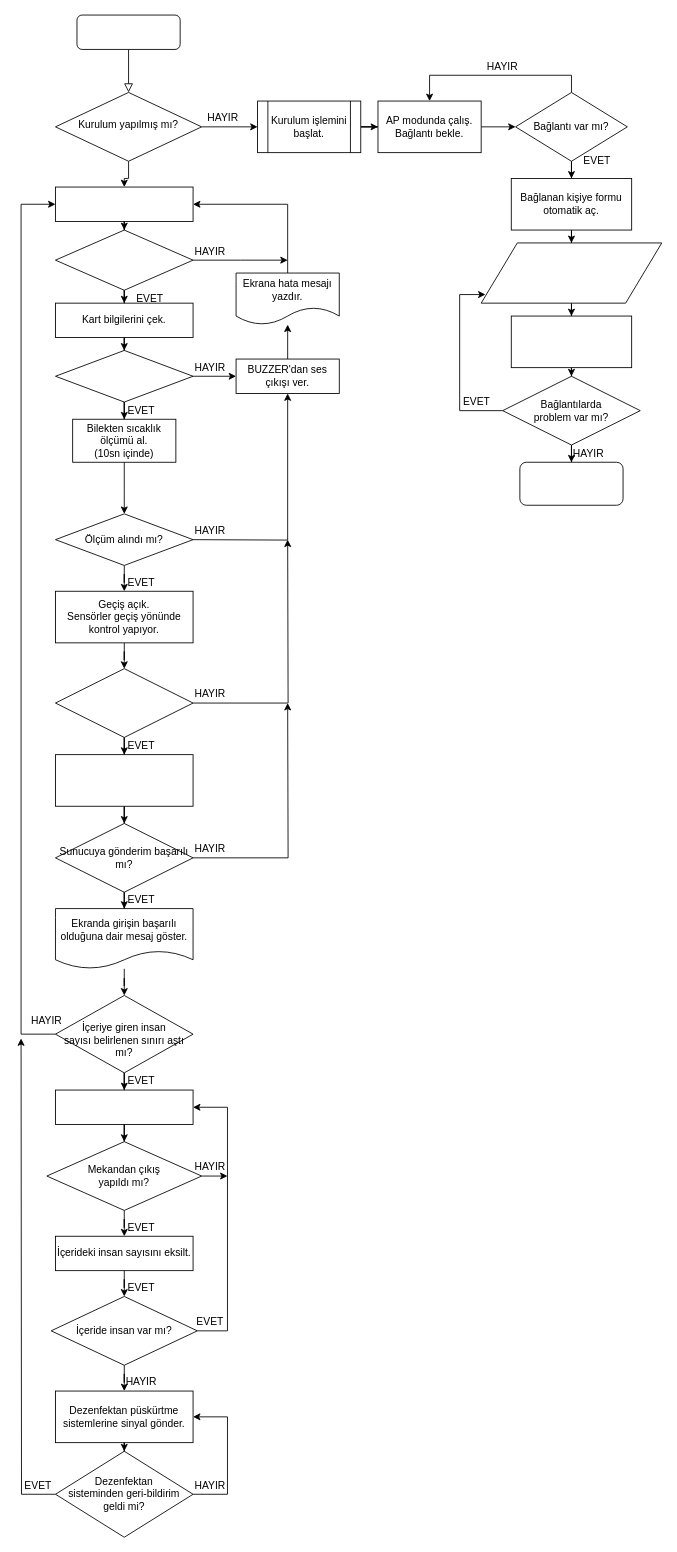
This 677x1552 diagram has some shape labels left out. Each missing label, with the centre of its shape:
Alınan verileri sunucuya gönder.: point 124,780
Bağlantıları test et.: point 571,341
Başla: point 128,31
Cihazı yeniden başlat.: point 571,483
Giriş yapıldı mı?: point 124,702
Kablosuz ağ bilgileri ve bağlanılacak sunucu bilgilerini al.: point 571,272
Kart sistemde tanımlı mı?: point 124,376
RFID kart okumayı bekle.: point 124,203
RFID Kart Okundu mu?: point 124,259
Çıkış kontrolünü aç.: point 124,1106
